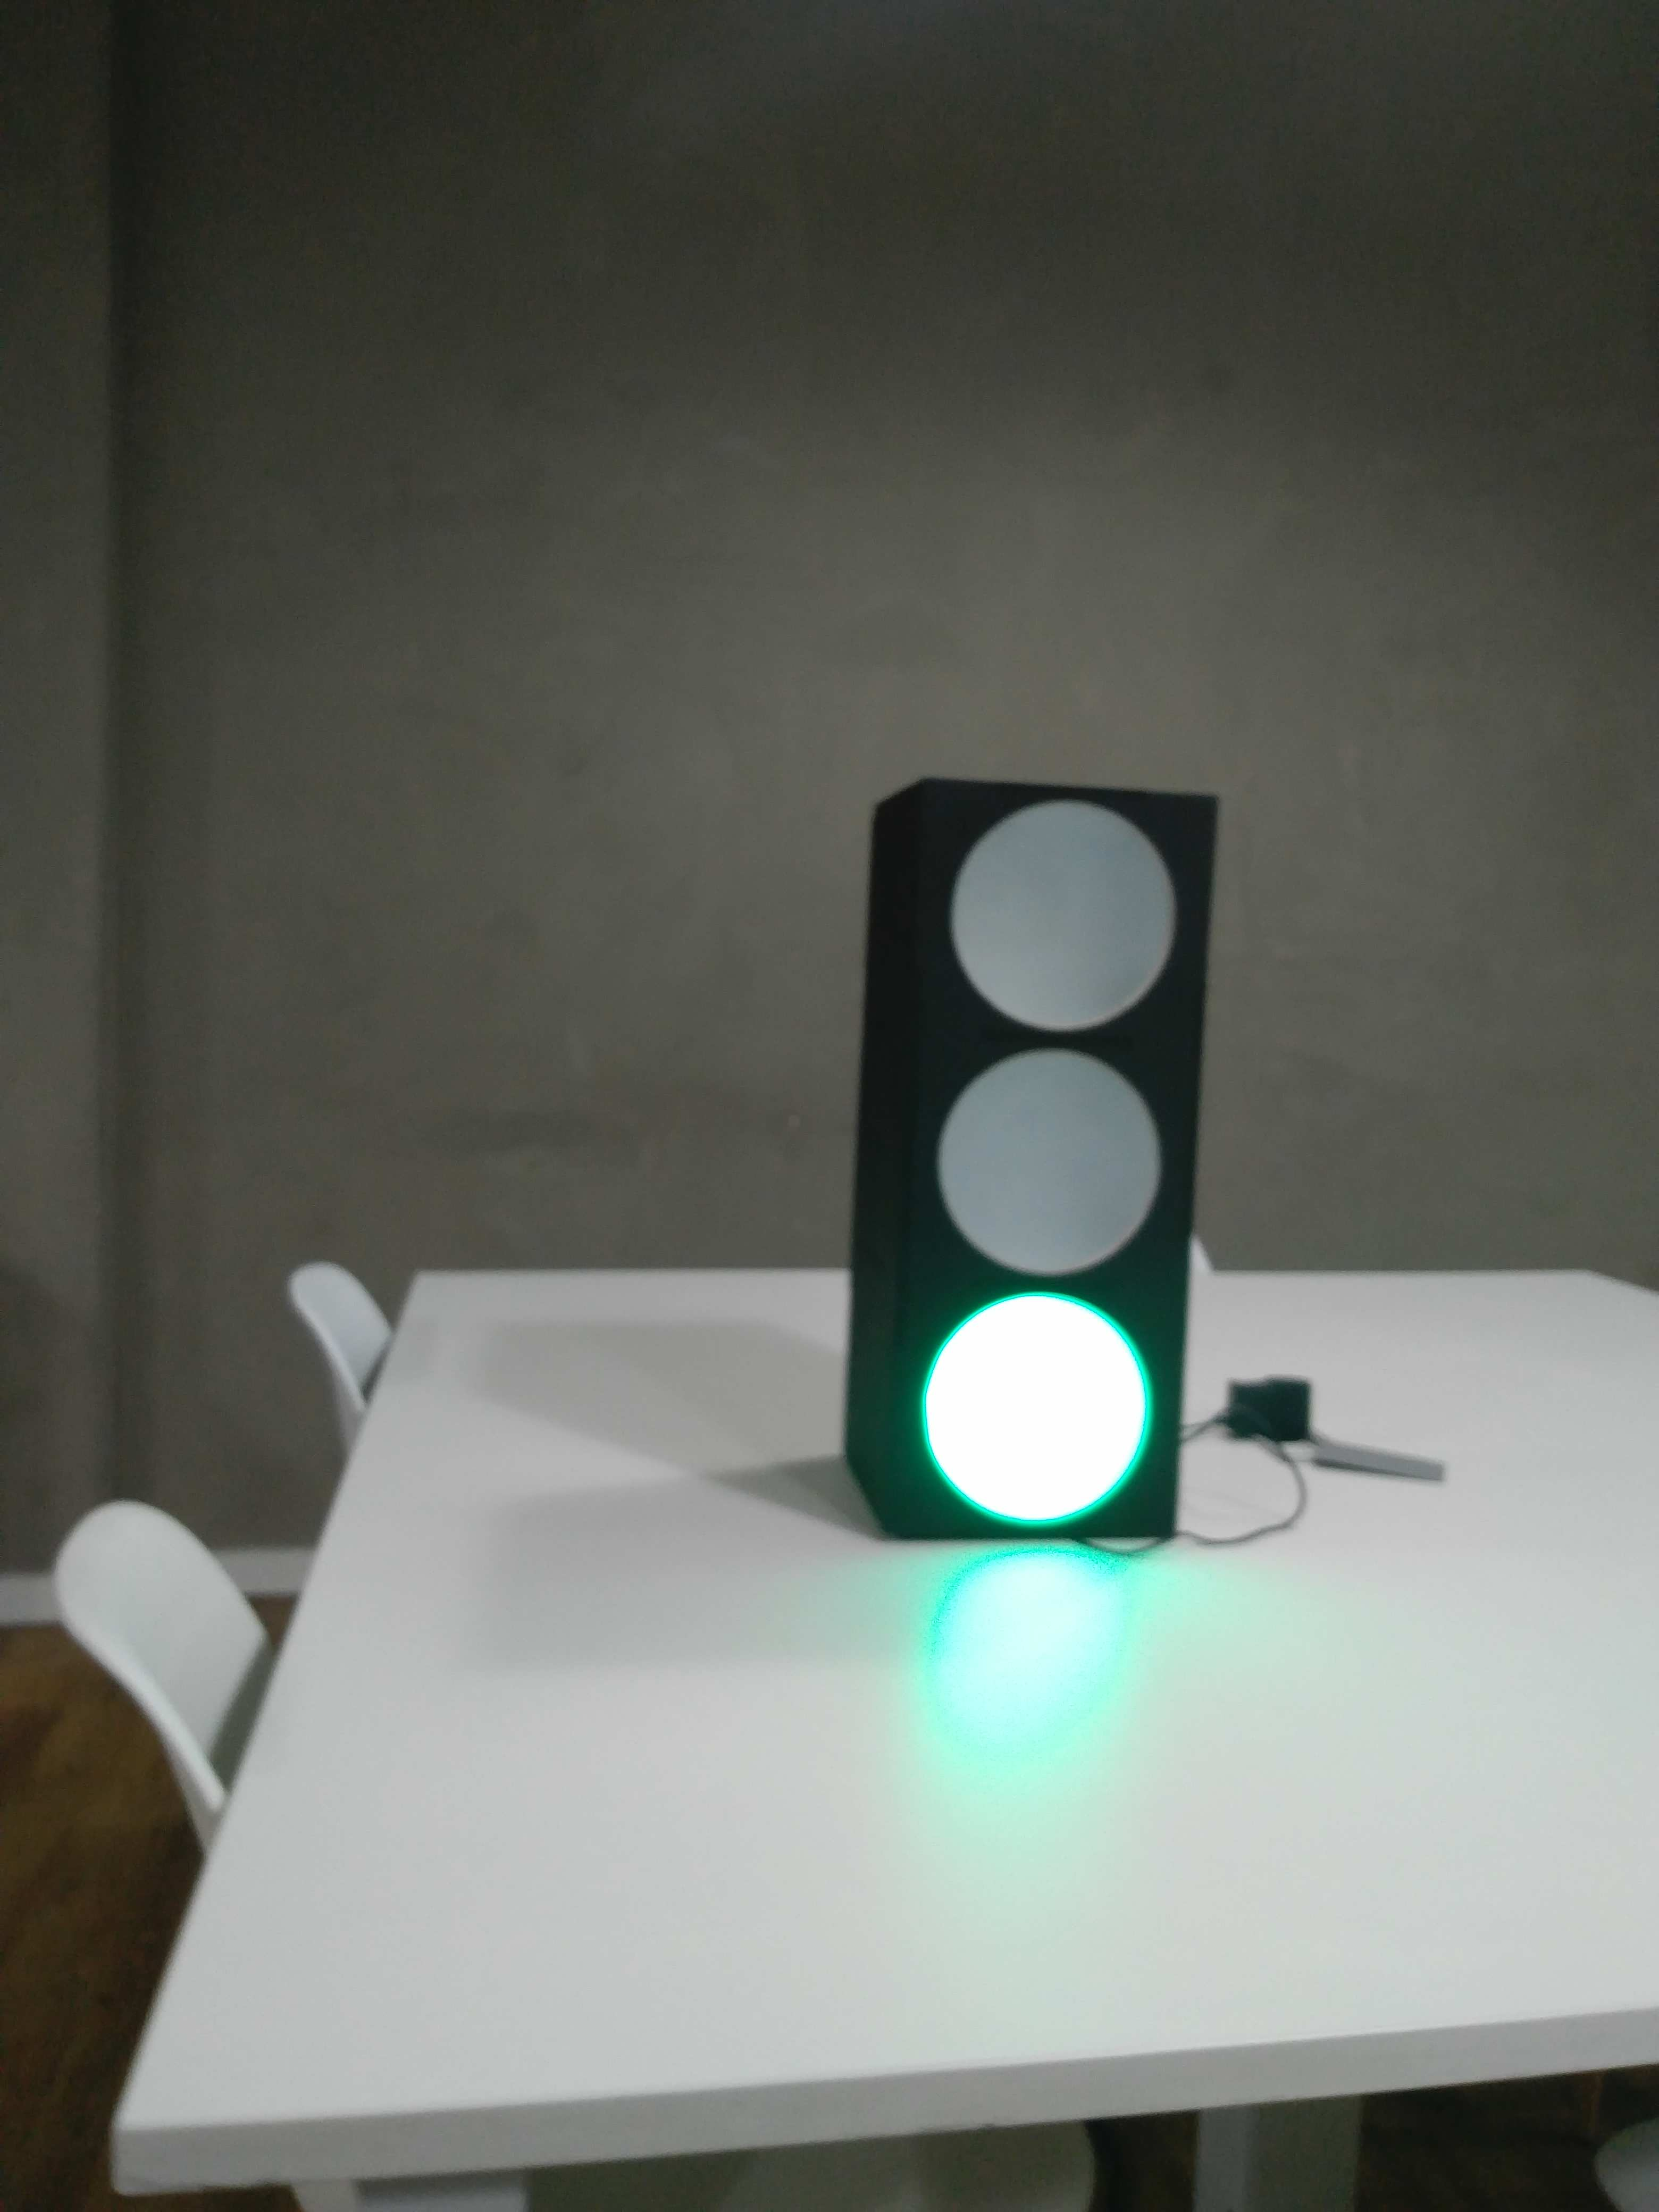go: (821, 780, 1236, 1543)
